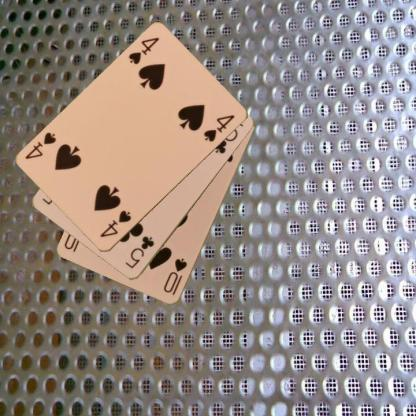10s: (161, 255, 189, 297)
4s: (97, 208, 133, 239), (126, 34, 160, 66)
5c: (122, 233, 155, 270)
